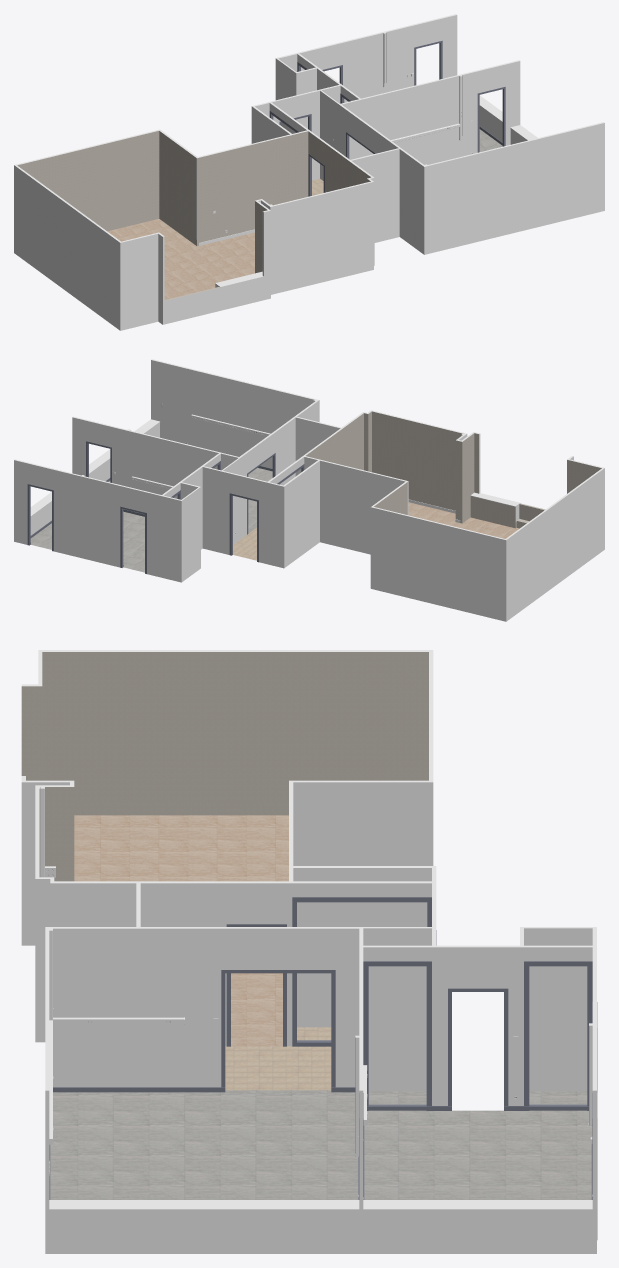
Rendered from FABLAB.dae.
3 renders of one model, top to bottom at view 1: azimuth 30°, elevation 25°; view 2: azimuth 150°, elevation 25°; view 3: azimuth 270°, elevation 25°, orthographic. The views are drawn at different scales.
Parts seen in each view (by area): view 1: group_24, group_1, group_36, group_34, group_37, group_35, group_38 (×2), MurArduinoA, SketchUp, group_18, PlacardArduino (×2), group_52 (+10 smaller); view 2: group_37, group_24, MurArduinoA, group_36, group_34, group_1, PlacardArduino (×2), group_35, group_44, SketchUp (×3), group_38, group_18 (+15 smaller); view 3: SketchUp (×3), group_36 (×2), group_18, PlacardArduino (×2), group_28, group_52, group_9, group_44, group_0, group_51, group_33, group_38 (×2) (+14 smaller).
Part boxes in pixels (left/top/right/bottom): group_24: left=424, top=122, right=604, bottom=248; group_1: left=360, top=60, right=520, bottom=164; group_36: left=14, top=165, right=120, bottom=323; group_34: left=270, top=181, right=373, bottom=288; group_37: left=17, top=131, right=159, bottom=226; group_35: left=197, top=135, right=291, bottom=239; group_38 (×2): left=120, top=201, right=270, bottom=324; MurArduinoA: left=297, top=14, right=457, bottom=102; SketchUp: left=107, top=219, right=254, bottom=299; group_18: left=339, top=104, right=424, bottom=248; PlacardArduino (×2): left=275, top=53, right=360, bottom=174; group_52: left=159, top=131, right=195, bottom=238; group_37: left=370, top=507, right=506, bottom=615; group_24: left=151, top=359, right=318, bottom=465; MurArduinoA: left=14, top=459, right=162, bottom=571; group_36: left=505, top=468, right=604, bottom=615; group_34: left=372, top=411, right=462, bottom=507; group_1: left=72, top=416, right=221, bottom=498; PlacardArduino (×2): left=162, top=453, right=240, bottom=576; group_35: left=320, top=460, right=408, bottom=548; group_44: left=266, top=455, right=320, bottom=562; SketchUp (×3): left=30, top=468, right=519, bottom=572; group_38: left=463, top=433, right=601, bottom=523; group_18: left=240, top=400, right=319, bottom=532; SketchUp (×3): left=50, top=815, right=592, bottom=1199; group_36 (×2): left=38, top=650, right=432, bottom=803; group_18: left=46, top=927, right=359, bottom=1080; PlacardArduino (×2): left=359, top=927, right=596, bottom=1079; group_28: left=49, top=1210, right=359, bottom=1253; group_52: left=293, top=780, right=433, bottom=865; group_9: left=363, top=1210, right=592, bottom=1253; group_44: left=289, top=866, right=436, bottom=1034; group_0: left=360, top=945, right=595, bottom=1098; group_51: left=137, top=881, right=288, bottom=1034; group_33: left=35, top=877, right=136, bottom=1030; group_38 (×2): left=21, top=650, right=69, bottom=933.
Bounding box in the file's own units: 633 × 350 × 111.
Materials: 9 (4 with a texture image).
